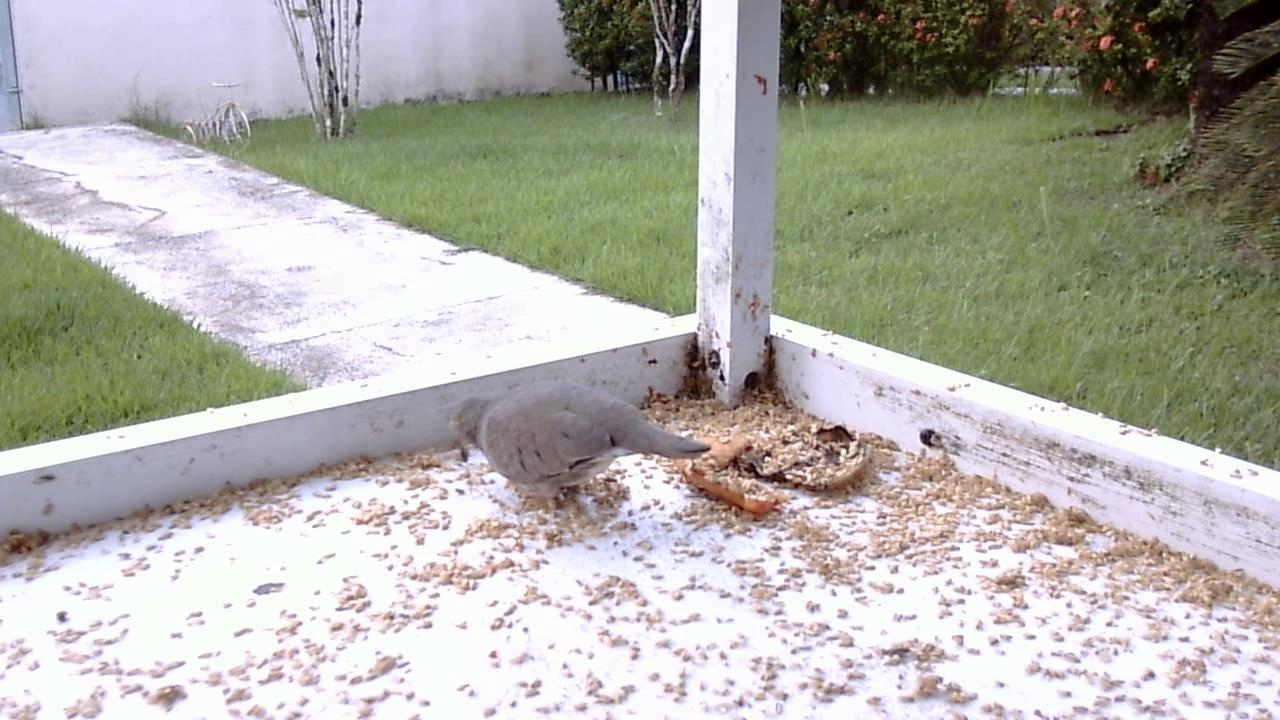rolinha: (447, 371, 712, 513)
